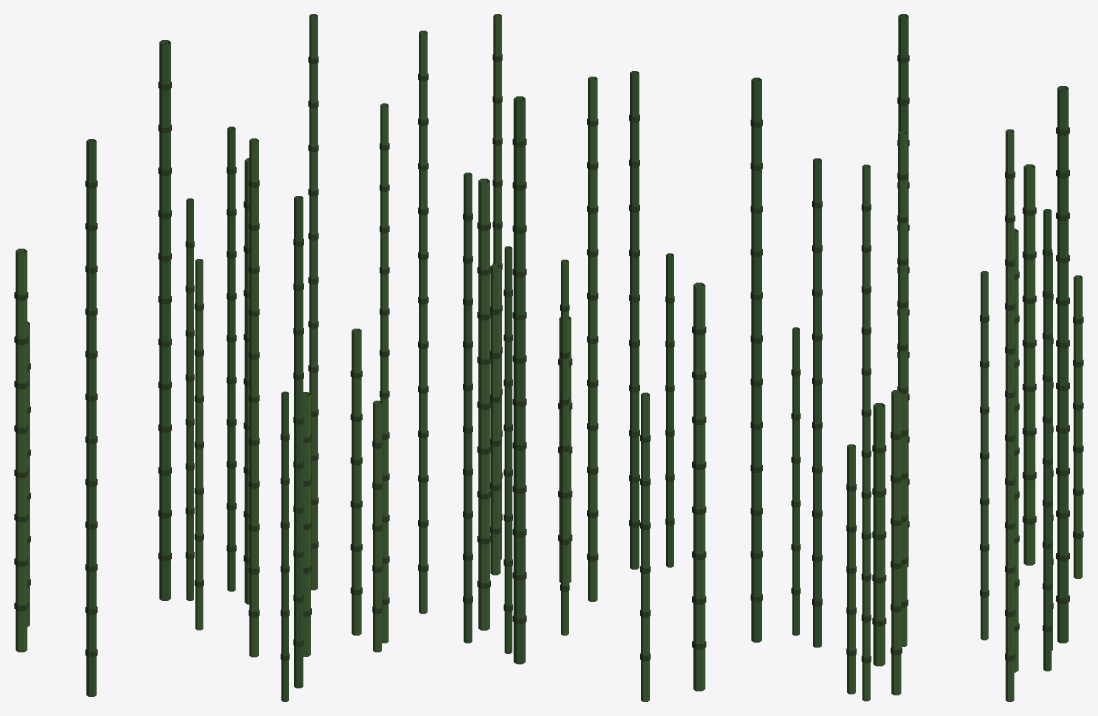
Rendered from horsetail_v1.glb.
The picture shows the model from 3 angles, left to right: view 1: azimuth 30°, elevation 25°; view 2: azimuth 150°, elevation 25°; view 3: azimuth 270°, elevation 25°; orthographic projection.
Parts seen in each view (by area): view 1: horsetail_v1; view 2: horsetail_v1; view 3: horsetail_v1.
Boxes of the visible parts, x1,y1,x2,y2 form: horsetail_v1: (14, 14, 389, 701); horsetail_v1: (418, 14, 762, 701); horsetail_v1: (791, 14, 1083, 701).
Size of the model in its own units: 0.445 by 0.8358 by 0.3884.
